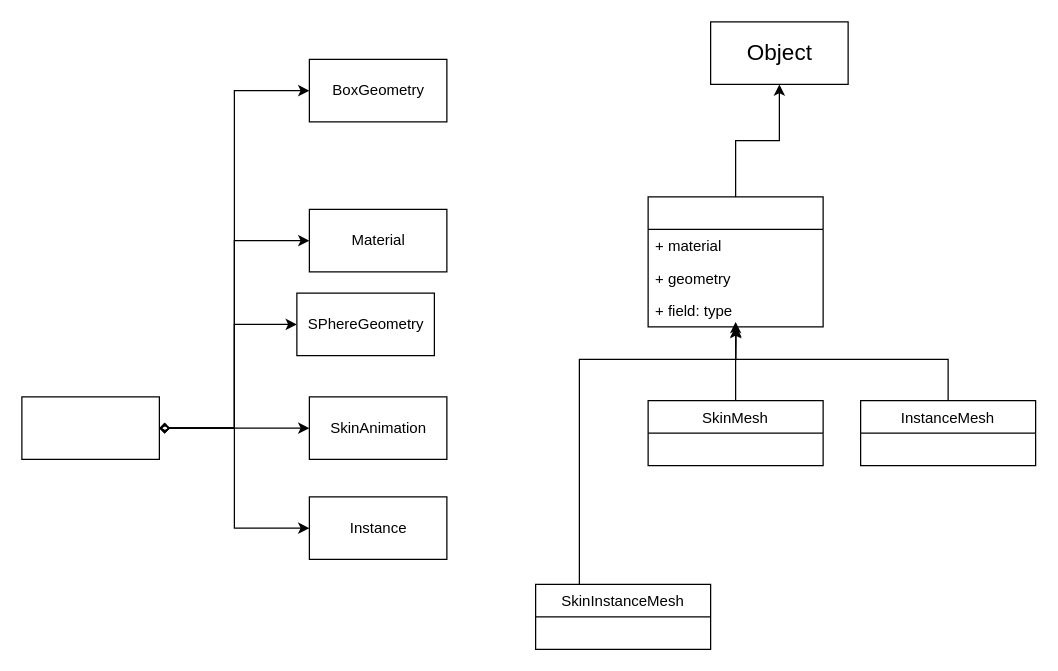
The diagram is 1058 pixels wide and 671 high, and some of its shapes have lost their labels. The box of each missing label's shape, as (x1, y1, x2, y2) in pixels:
GameObject: (21, 396, 159, 459)
Mesh: (647, 196, 823, 327)
